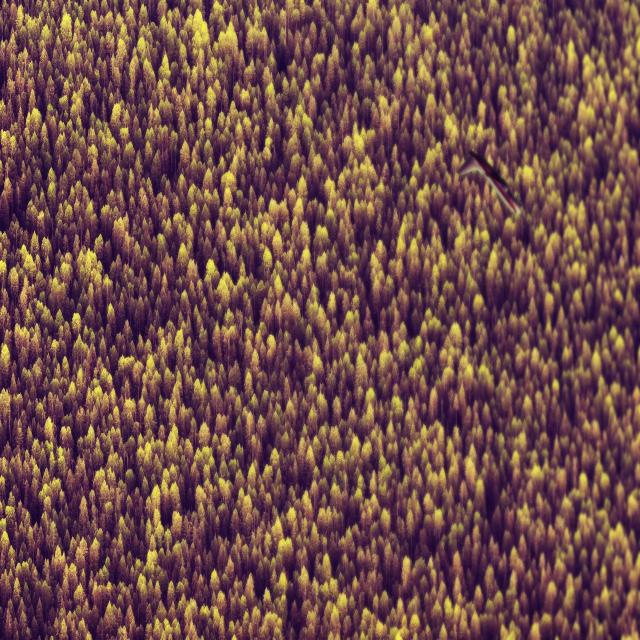airplane: (457, 149, 522, 217)
